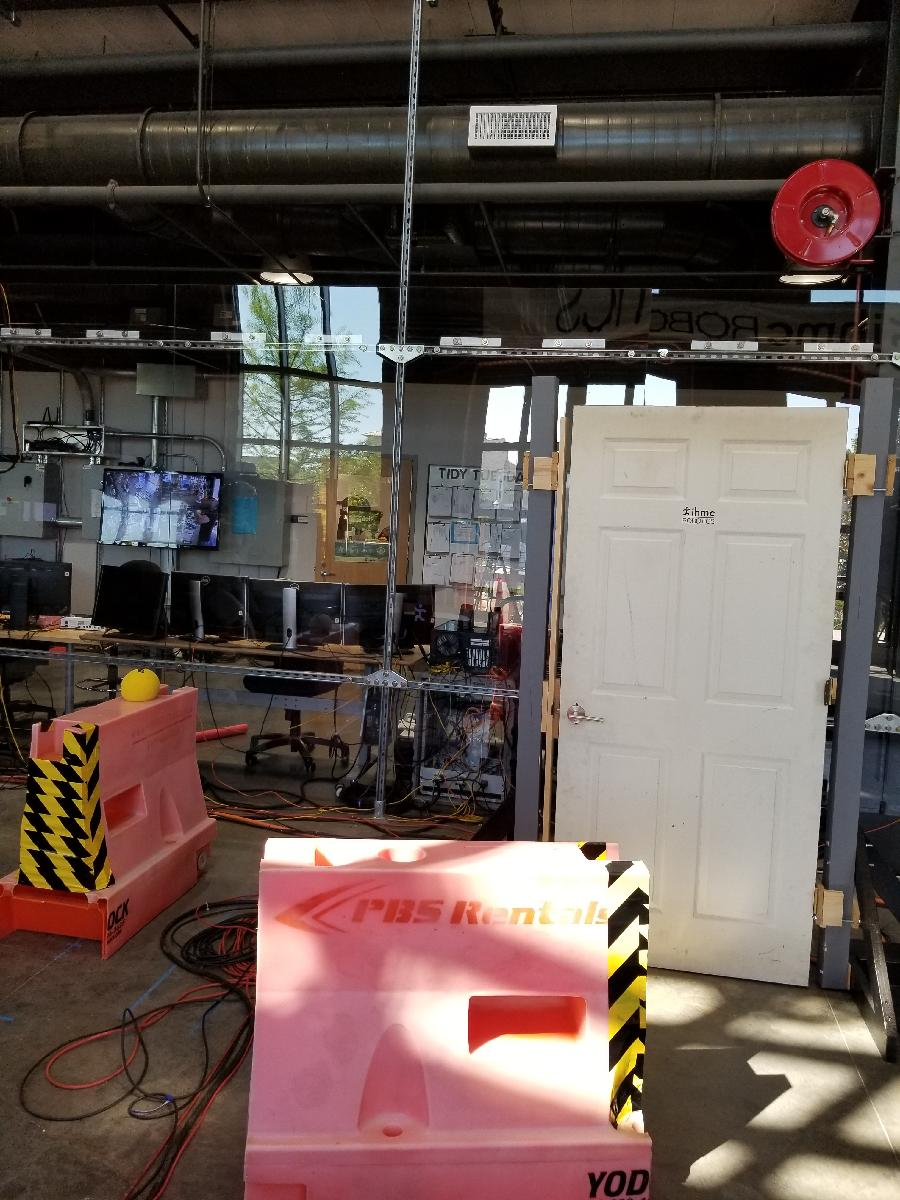door: (542, 402, 851, 998)
doorHandle: (561, 703, 610, 736)
